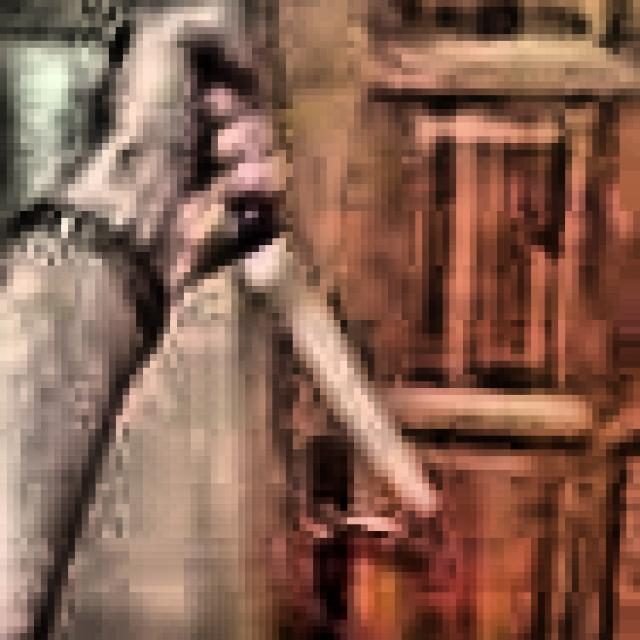knife: (110, 29, 440, 516)
